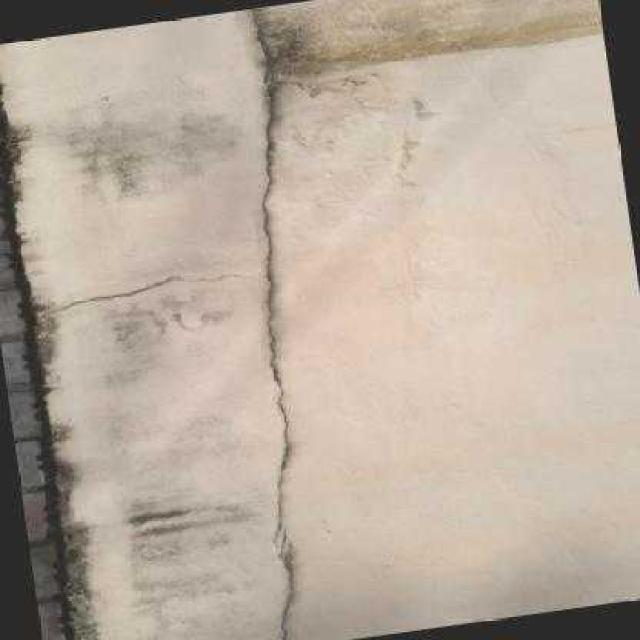D00: (243, 6, 292, 541), (38, 271, 252, 314), (277, 538, 295, 640)
